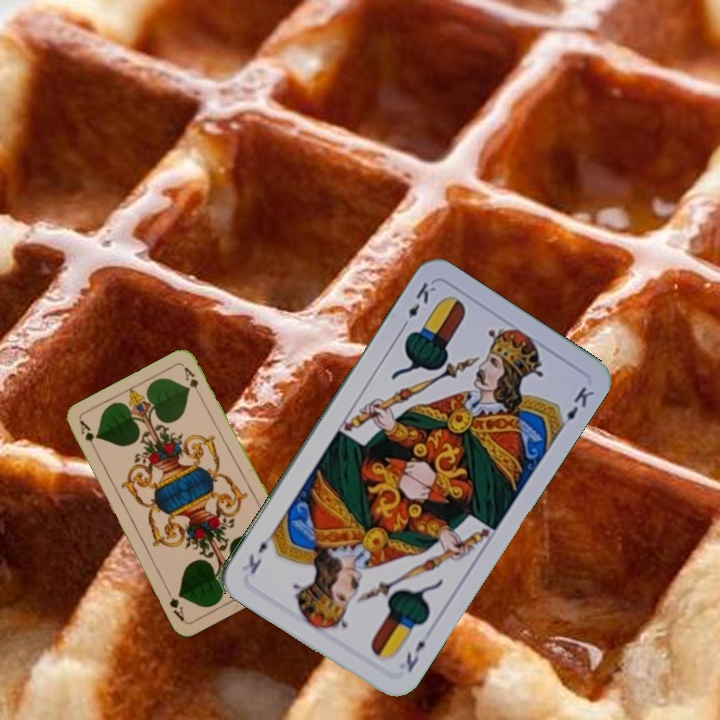EK: (397, 278, 439, 332), (401, 636, 429, 676)
GA: (76, 417, 100, 455)
